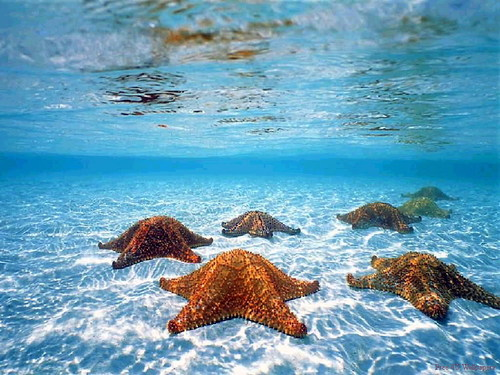starfish: (152, 245, 316, 345), (345, 246, 499, 326), (96, 212, 217, 272), (218, 207, 302, 246), (330, 196, 411, 234)
